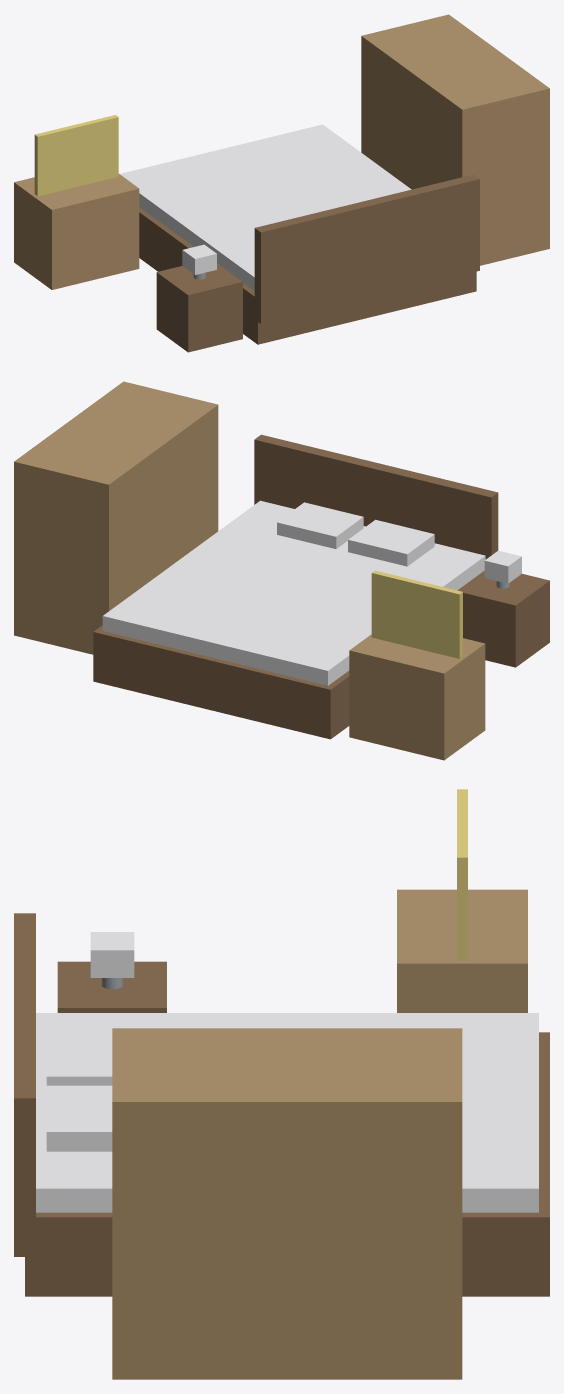
File: furniture_bedroom.fbx
3 renders of one model, top to bottom at view 1: azimuth 30°, elevation 25°; view 2: azimuth 150°, elevation 25°; view 3: azimuth 270°, elevation 25°, orthographic. The views are drawn at different scales.
Parts seen in each view (by area): view 1: Wardrobe, Headboard, Mattress, Dresser, BedFrame, Nightstand, MirrorFrame, NightLampShade; view 2: Wardrobe, Mattress, Headboard, Dresser, BedFrame, Nightstand, MirrorFrame, Pillow_1, Pillow_2, NightLampShade; view 3: Wardrobe, Mattress, BedFrame, Dresser, Headboard, Nightstand, Pillow_2, Pillow_1, NightLampShade, MirrorFrame.
Part boxes in pixels (x1=…): Wardrobe: x1=361, y1=14, x2=549, y2=265; Headboard: x1=254, y1=174, x2=479, y2=323; Mattress: x1=120, y1=124, x2=411, y2=290; Dresser: x1=14, y1=174, x2=139, y2=289; BedFrame: x1=139, y1=207, x2=476, y2=344; Nightstand: x1=156, y1=263, x2=242, y2=352; MirrorFrame: x1=34, y1=115, x2=118, y2=196; NightLampShade: x1=182, y1=244, x2=216, y2=274; Wardrobe: x1=14, y1=381, x2=218, y2=654; Mattress: x1=102, y1=500, x2=485, y2=685; Headboard: x1=254, y1=434, x2=498, y2=559; Dresser: x1=349, y1=634, x2=485, y2=760; BedFrame: x1=93, y1=625, x2=349, y2=739; Nightstand: x1=457, y1=570, x2=549, y2=667; MirrorFrame: x1=371, y1=570, x2=462, y2=658; Pillow_1: x1=348, y1=519, x2=434, y2=566; Pillow_2: x1=277, y1=502, x2=363, y2=548; NightLampShade: x1=484, y1=550, x2=521, y2=583; Wardrobe: x1=112, y1=1028, x2=462, y2=1379; Mattress: x1=36, y1=1013, x2=538, y2=1212; BedFrame: x1=25, y1=1032, x2=549, y2=1296; Dresser: x1=397, y1=889, x2=527, y2=1012; Headboard: x1=14, y1=913, x2=35, y2=1256; Nightstand: x1=57, y1=961, x2=166, y2=1012; Pillow_2: x1=46, y1=1085, x2=112, y2=1151; Pillow_1: x1=46, y1=1030, x2=112, y2=1085; NightLampShade: x1=90, y1=932, x2=134, y2=977; MirrorFrame: x1=457, y1=789, x2=467, y2=960.
Bounding box in the file's own units: 3.8 × 1.4 × 2.45.
